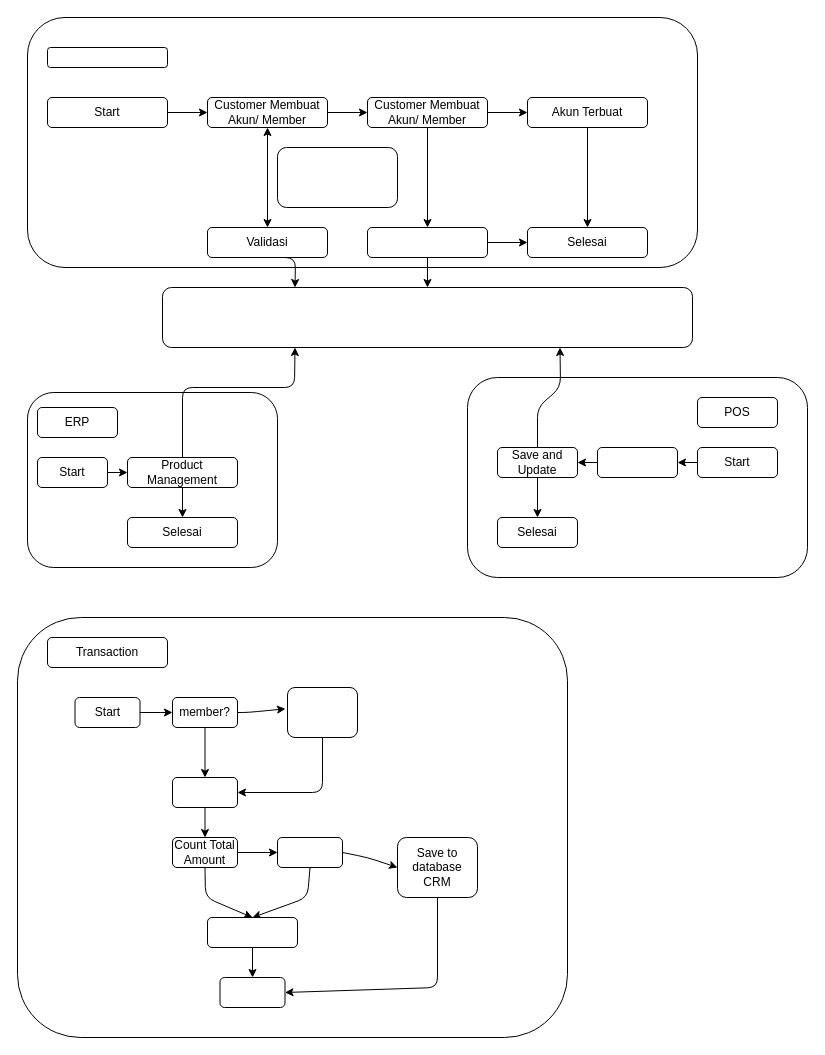
Some shapes in this 825 by 1055 pixel diagram are drawn without their labels. The shapes that lost their labels are listed below. From the top down, each one's box as (x1, y1, x2, y2) in pixels, then its label:
(46, 46, 168, 68): CRM
(276, 146, 398, 208): mengecek apakah email/ username sudah terdaftar
(366, 226, 488, 258): Simpan
(162, 286, 692, 348): DataBase
(596, 446, 678, 478): ERP & CRM
(286, 686, 358, 738): make a member (CRM)
(172, 776, 238, 808): continue transaction
(276, 836, 342, 868): Count Point Earned
(206, 916, 298, 948): Print Transaction
(219, 976, 285, 1008): Finish
